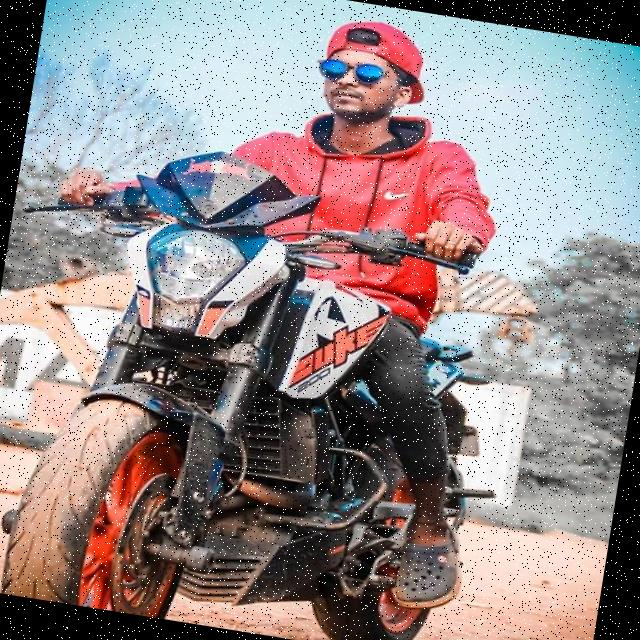No helmet: (307, 13, 442, 158)
